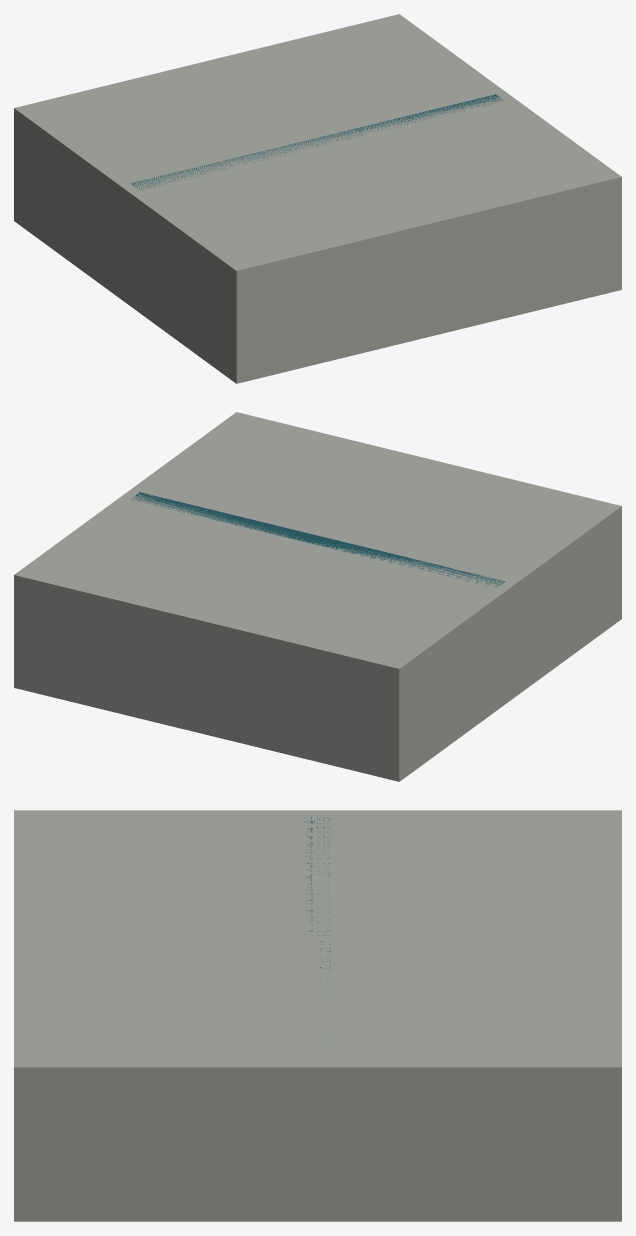
The model's file is SM_StationMergeDeck.fbx.
3 views of the same model, one above another, from view 1: azimuth 30°, elevation 25°; view 2: azimuth 150°, elevation 25°; view 3: azimuth 270°, elevation 25° (orthographic). The views are drawn at different scales.
Visible parts, largest first — view 1: SM_StationMergeDeck_UEExport; view 2: SM_StationMergeDeck_UEExport; view 3: SM_StationMergeDeck_UEExport.
Part boxes in pixels (x1=…): SM_StationMergeDeck_UEExport: x1=14, y1=14, x2=621, y2=383; SM_StationMergeDeck_UEExport: x1=14, y1=412, x2=621, y2=781; SM_StationMergeDeck_UEExport: x1=14, y1=810, x2=621, y2=1221.
Size of the model in its own units: 200 by 200 by 56.
